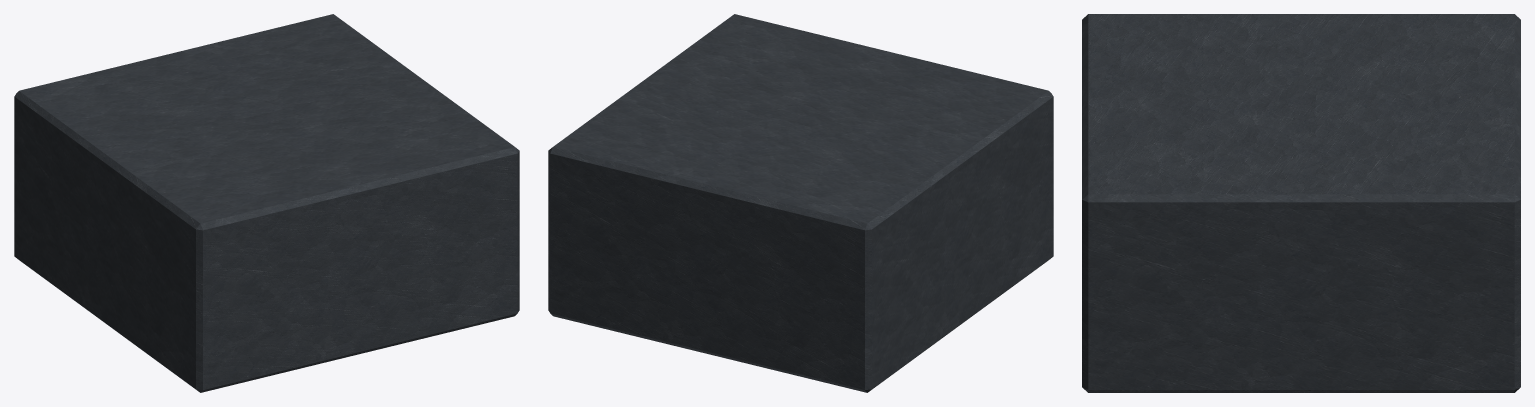
The model's file is train_dark_steel_slab.gltf.
3 renders of one model, left to right at view 1: azimuth 30°, elevation 25°; view 2: azimuth 150°, elevation 25°; view 3: azimuth 270°, elevation 25°, orthographic. The views are drawn at different scales.
Bounding box in the file's own units: 1 × 0.5 × 1.
2 materials, 2 textured.
